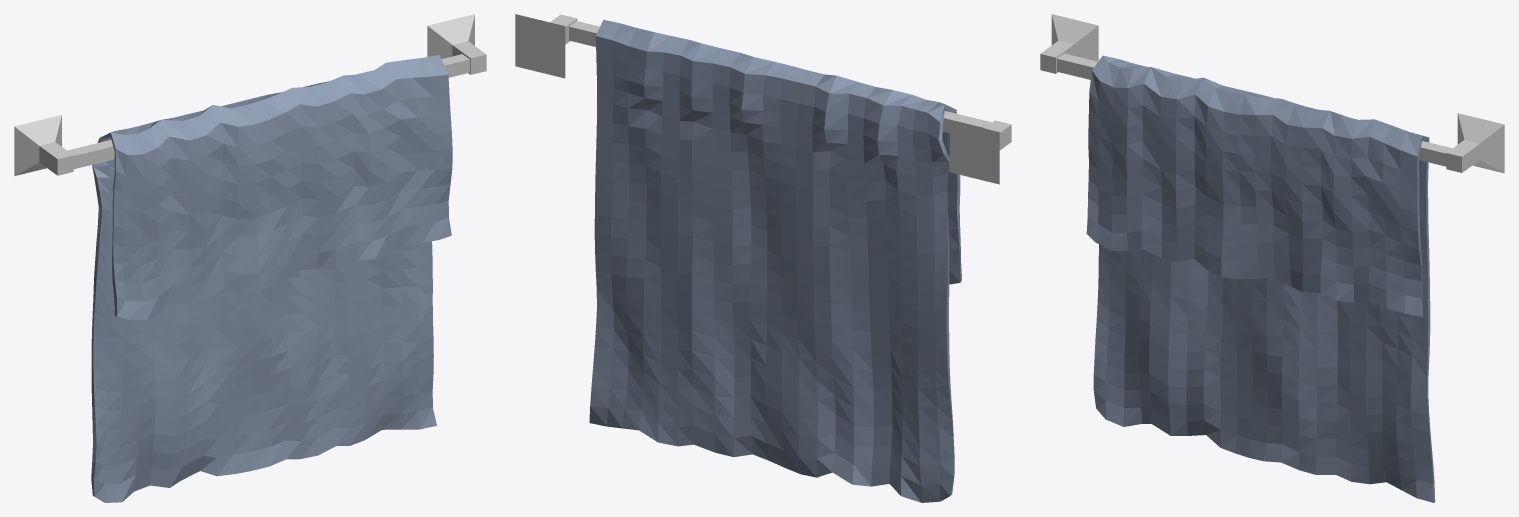
Rendered from b0-towel3.glb.
3 renders of one model, left to right at view 1: azimuth 30°, elevation 25°; view 2: azimuth 150°, elevation 25°; view 3: azimuth 330°, elevation 25°, orthographic. The views are drawn at different scales.
Parts seen in each view (by area): view 1: towel_beneath_window_Plane.013, towel_bar_Cube.016; view 2: towel_beneath_window_Plane.013, towel_bar_Cube.016; view 3: towel_beneath_window_Plane.013, towel_bar_Cube.016.
Boxes of the visible parts, box(x1,y1,x2,y2) form: towel_beneath_window_Plane.013: box(91, 55, 452, 502); towel_bar_Cube.016: box(14, 14, 486, 175); towel_beneath_window_Plane.013: box(589, 19, 961, 502); towel_bar_Cube.016: box(515, 14, 1011, 184); towel_beneath_window_Plane.013: box(1086, 55, 1435, 502); towel_bar_Cube.016: box(1040, 14, 1504, 173).
Bounding box in the file's own units: 0.596 × 0.478 × 0.081.
